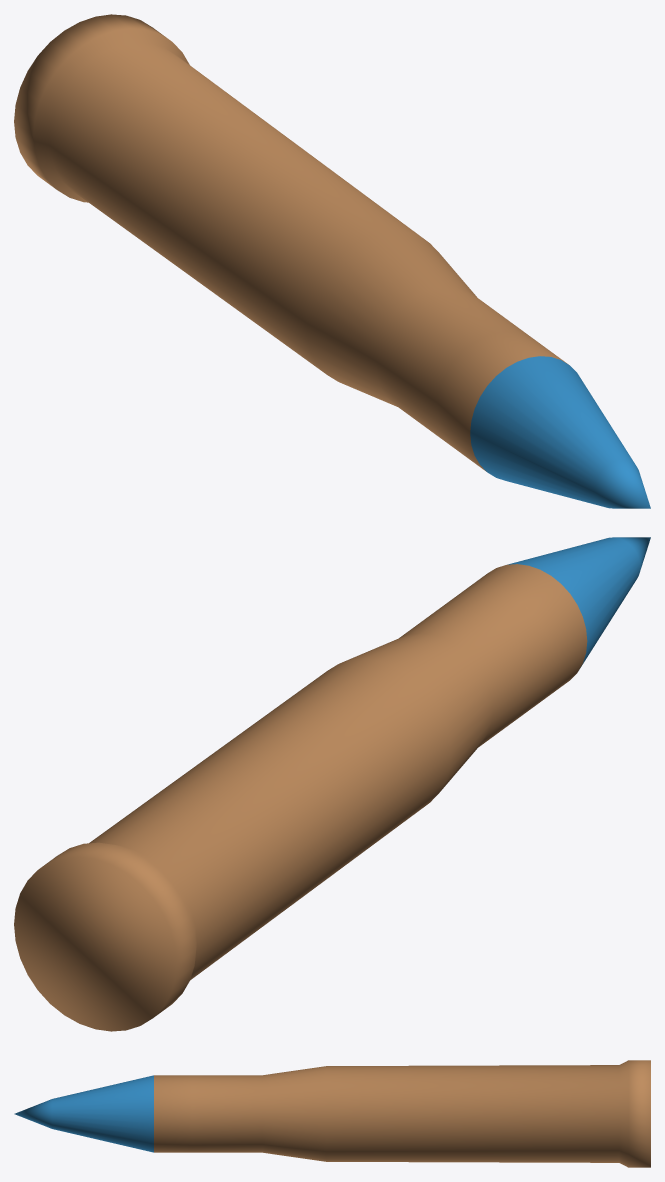
The model's file is rotor_heavy_round_display.glb.
3 views of the same model, one above another, from view 1: azimuth 30°, elevation 25°; view 2: azimuth 150°, elevation 25°; view 3: azimuth 270°, elevation 25° (orthographic). The views are drawn at different scales.
Visible parts, largest first — view 1: AMMO_MESH.009; view 2: AMMO_MESH.009; view 3: AMMO_MESH.009.
Part boxes in pixels (bbox=[...]): AMMO_MESH.009: bbox=[14, 14, 650, 508]; AMMO_MESH.009: bbox=[14, 537, 650, 1031]; AMMO_MESH.009: bbox=[14, 1060, 650, 1167].
Size of the model in its own units: 0.012 by 0.012 by 0.071.
